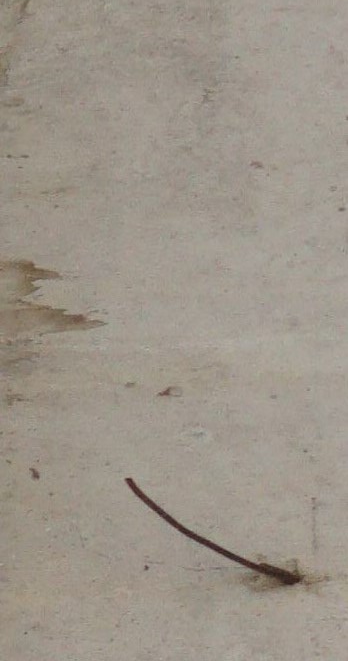Exposed reinforcement: (124, 477, 303, 585)
